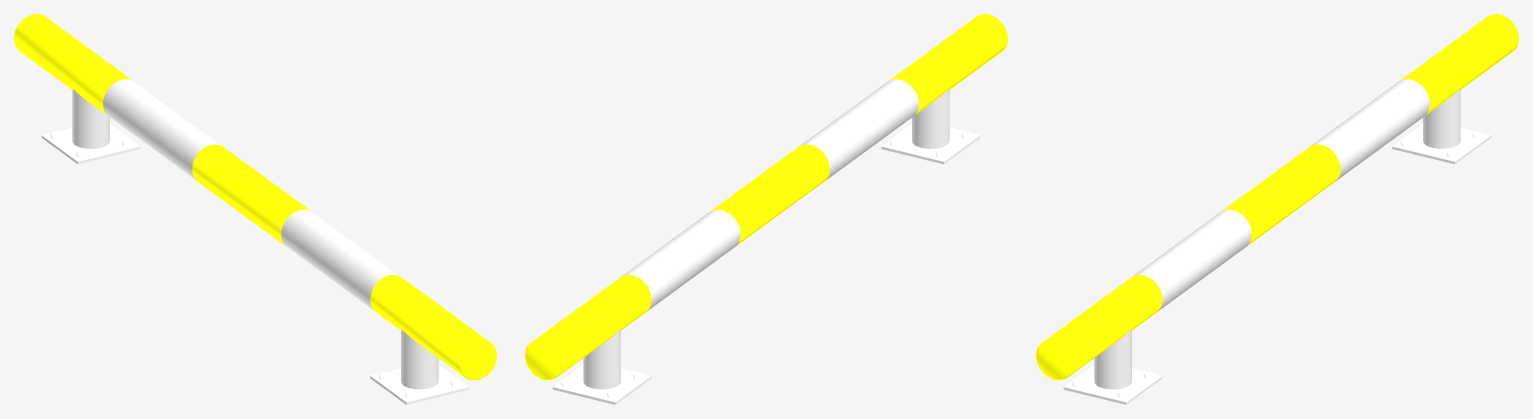
Rendered from Support_Vehicle_Stopper.glb.
3 views of the same model, side by side, from view 1: azimuth 30°, elevation 25°; view 2: azimuth 150°, elevation 25°; view 3: azimuth 330°, elevation 25° (orthographic).
Visible parts, largest first — view 1: Support_Vehicle_Stopper; view 2: Support_Vehicle_Stopper; view 3: Support_Vehicle_Stopper.
Part boxes in pixels (<box>): Support_Vehicle_Stopper: <box>14,14,496,404</box>; Support_Vehicle_Stopper: <box>525,14,1007,404</box>; Support_Vehicle_Stopper: <box>1036,14,1518,404</box>.
Bounding box in the file's own units: 0.13 × 0.17 × 1.6.
